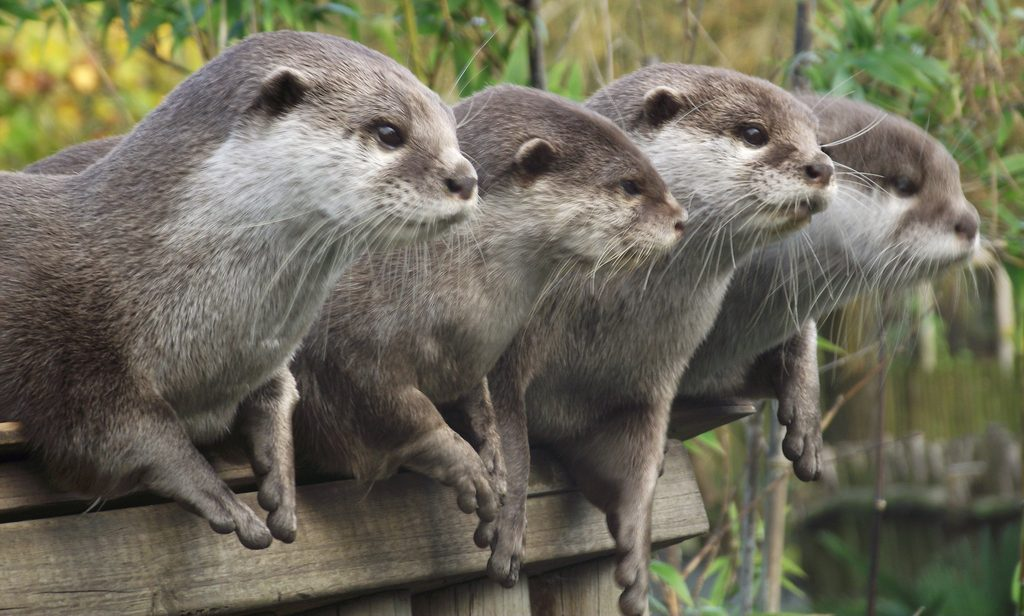otter: (3, 21, 481, 561), (316, 32, 709, 592), (526, 44, 765, 612)
